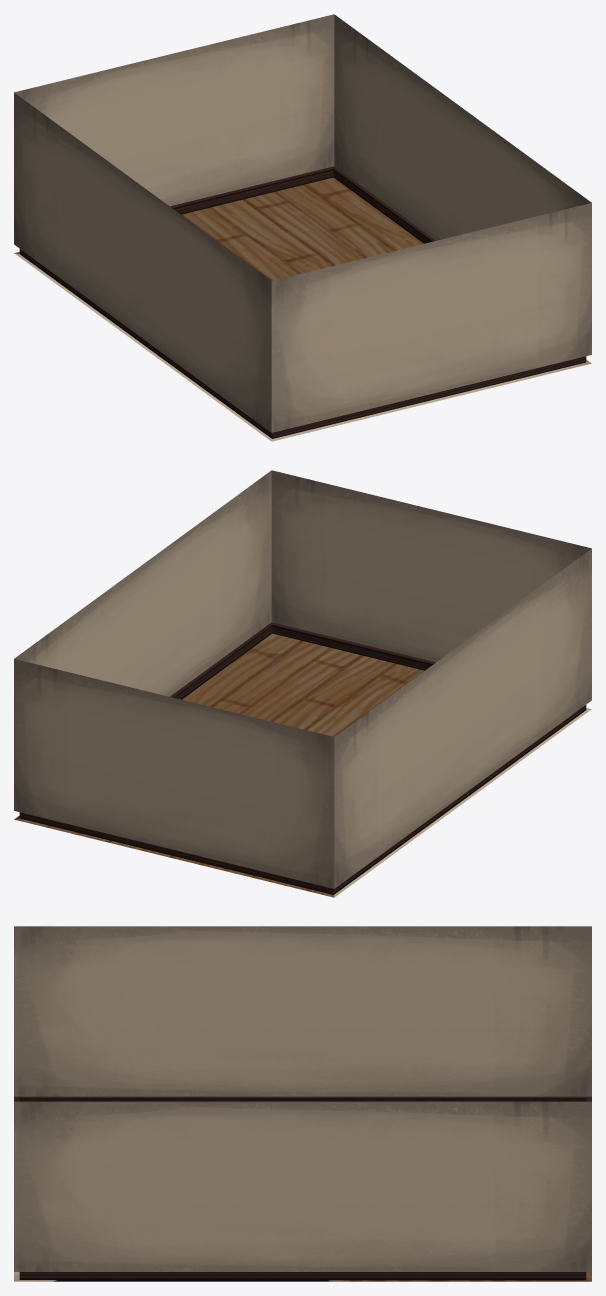
Rendered from Room_Walls.fbx.
The picture shows the model from 3 angles, top to bottom: view 1: azimuth 30°, elevation 25°; view 2: azimuth 150°, elevation 25°; view 3: azimuth 270°, elevation 25°; orthographic projection. The views are drawn at different scales.
Parts seen in each view (by area): view 1: polySurface111; view 2: polySurface111; view 3: polySurface111.
Boxes of the visible parts, left/top/right/bottom form: polySurface111: left=14, top=14, right=591, bottom=441; polySurface111: left=14, top=470, right=591, bottom=897; polySurface111: left=14, top=926, right=591, bottom=1281.
Bounding box in the file's own units: 31.32 × 15.02 × 43.63.
Materials: 1 (1 with a texture image).
